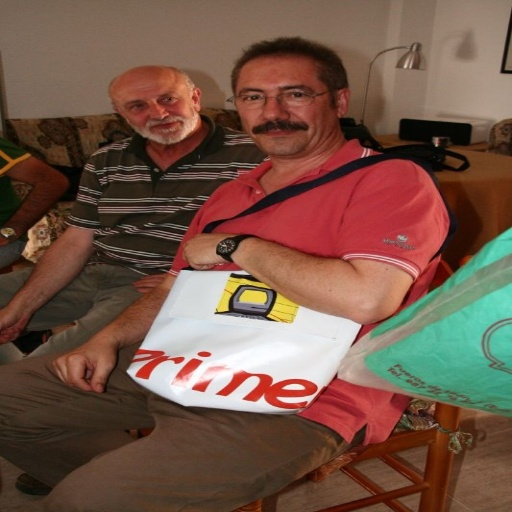hand: (45, 316, 129, 407), (179, 231, 243, 272), (0, 302, 26, 344)
